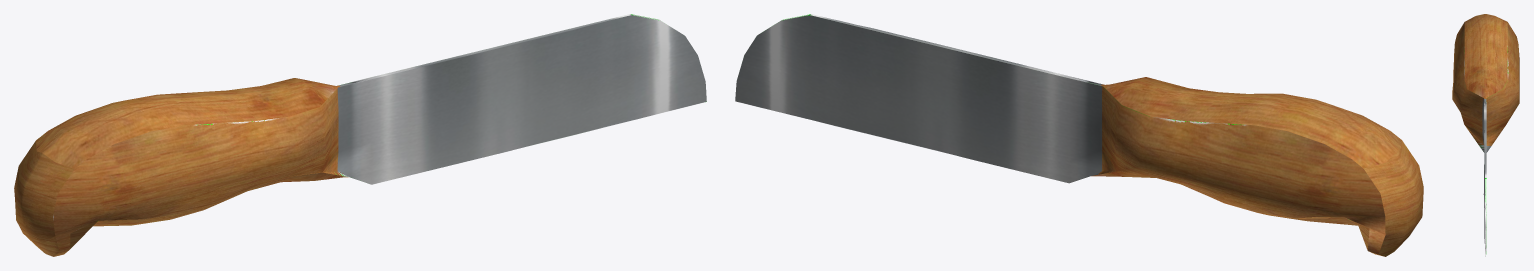
File: nóż.FBX
3 views of the same model, side by side, from view 1: azimuth 30°, elevation 25°; view 2: azimuth 150°, elevation 25°; view 3: azimuth 270°, elevation 25° (orthographic). The views are drawn at different scales.
Parts seen in each view (by area): view 1: Box001; view 2: Box001; view 3: Box001.
Boxes of the visible parts, x1=… form: Box001: x1=14, y1=14, x2=706, y2=256; Box001: x1=735, y1=14, x2=1423, y2=256; Box001: x1=1452, y1=14, x2=1519, y2=256.
Bounding box in the file's own units: 102 × 19.44 × 15.58.
